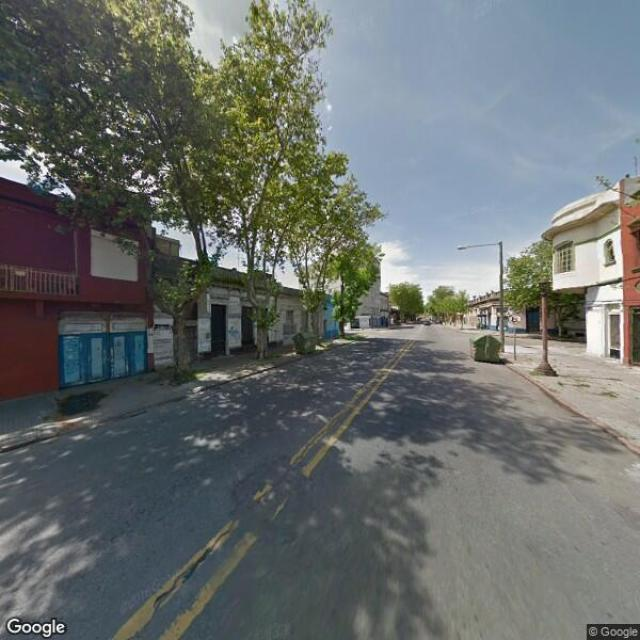garbage container: (462, 330, 508, 370)
